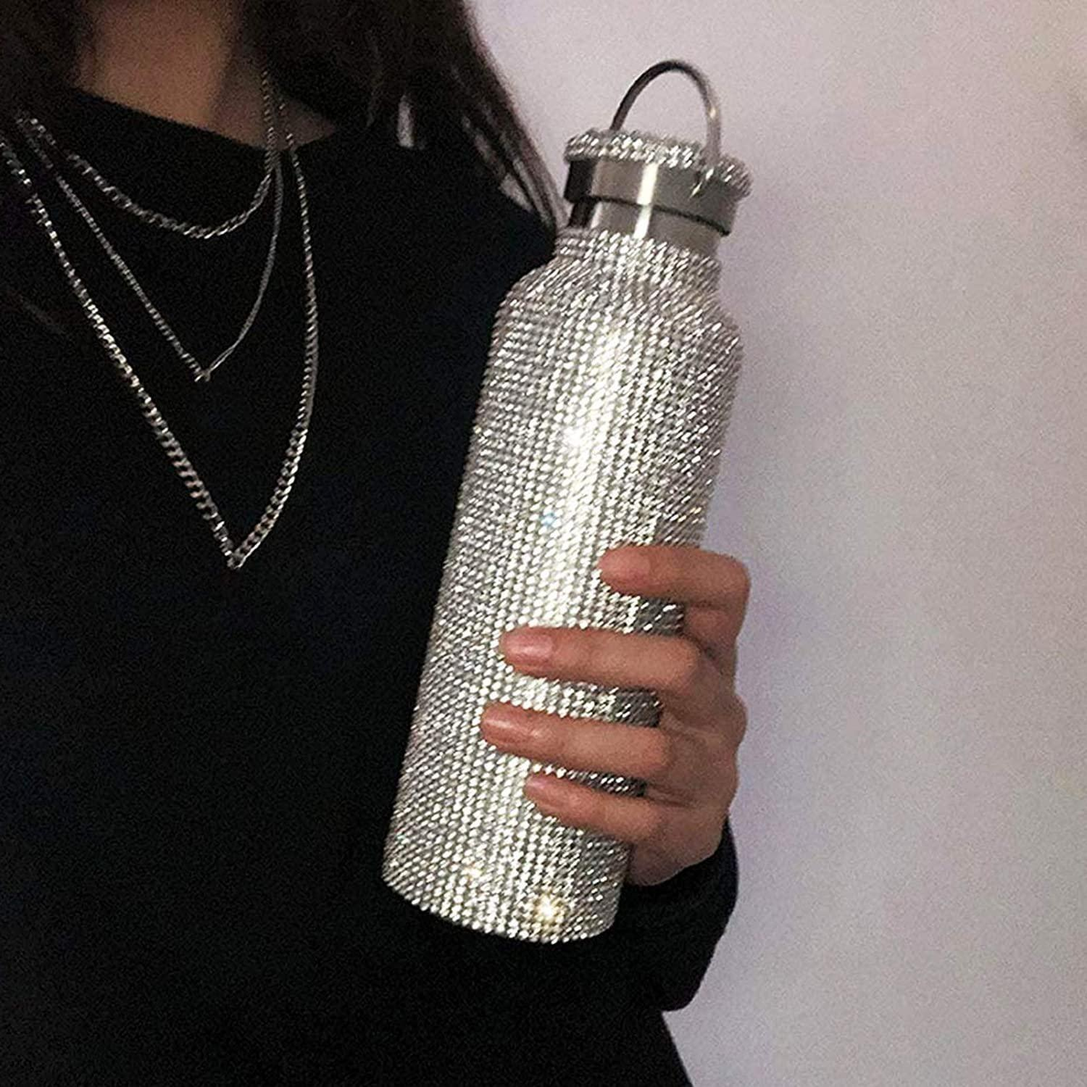gym bottle: (379, 61, 750, 942)
